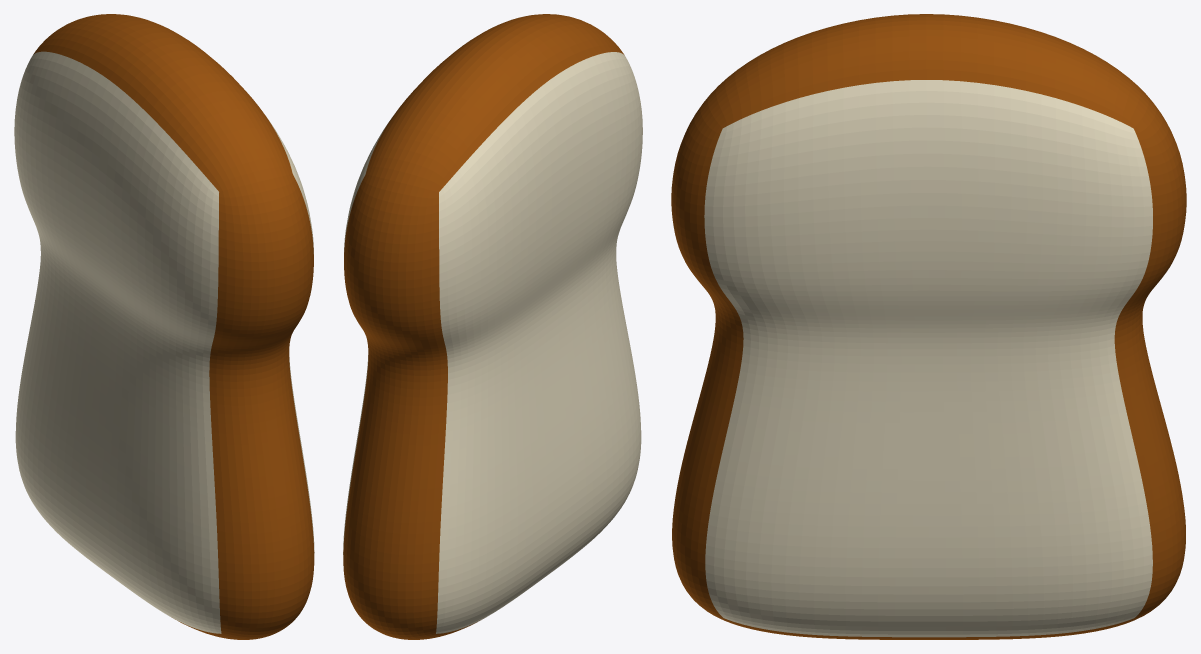
Rendered from bread.fbx.
The picture shows the model from 3 angles, left to right: view 1: azimuth 30°, elevation 25°; view 2: azimuth 150°, elevation 25°; view 3: azimuth 270°, elevation 25°; orthographic projection. The views are drawn at different scales.
Visible parts, largest first — view 1: Cube.001; view 2: Cube.001; view 3: Cube.001.
Part boxes in pixels (x1,y1,x2,y2): Cube.001: [14, 14, 314, 639]; Cube.001: [343, 14, 642, 639]; Cube.001: [671, 14, 1186, 639].
Bounding box in the file's own units: 188 × 244 × 68.25.
